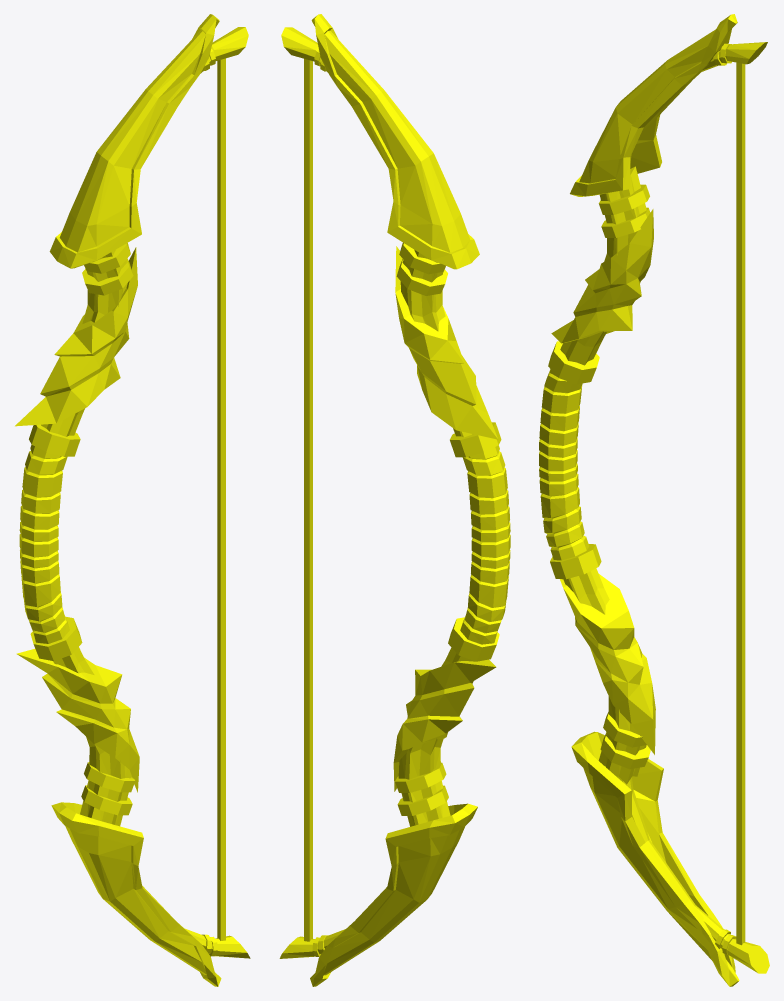
The model's file is _bow_20.glb.
3 views of the same model, side by side, from view 1: azimuth 30°, elevation 25°; view 2: azimuth 150°, elevation 25°; view 3: azimuth 330°, elevation 25° (orthographic).
Parts seen in each view (by area): view 1: bow_20; view 2: bow_20; view 3: bow_20.
Part boxes in pixels (bbox=[...]): bow_20: bbox=[15, 14, 250, 986]; bow_20: bbox=[279, 14, 510, 986]; bow_20: bbox=[539, 14, 769, 986].
Size of the model in its own units: 9821 by 40450 by 2834.
